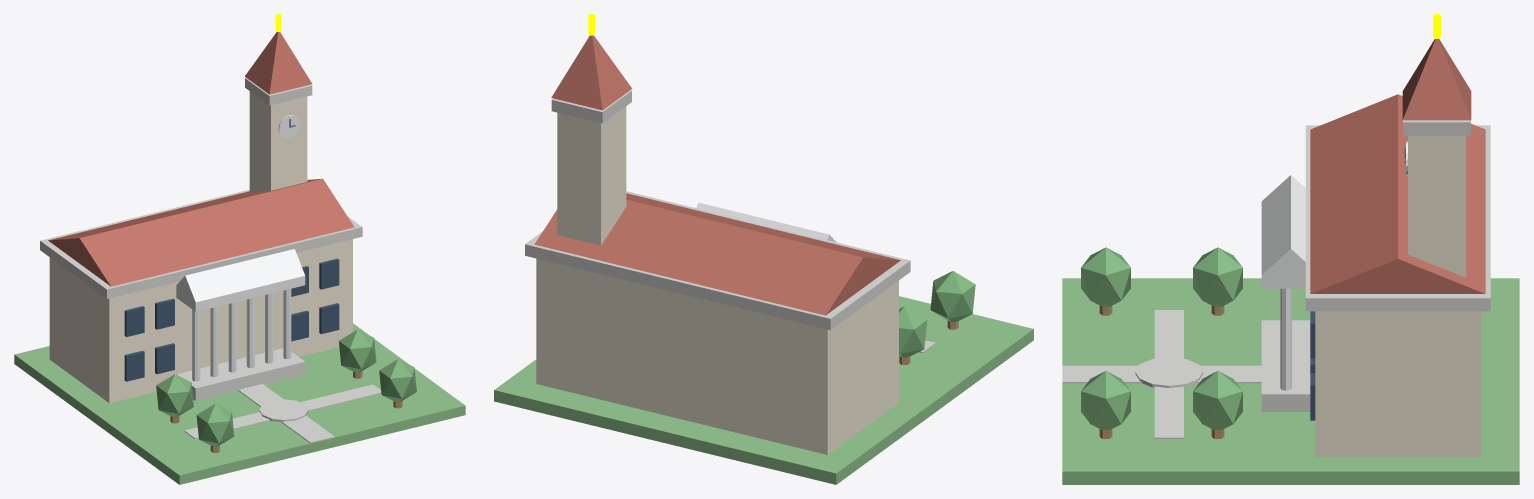
File: university.glb
The picture shows the model from 3 angles, left to right: view 1: azimuth 30°, elevation 25°; view 2: azimuth 150°, elevation 25°; view 3: azimuth 270°, elevation 25°; orthographic projection. The views are drawn at different scales.
Parts seen in each view (by area): view 1: university_body; view 2: university_body; view 3: university_body.
Boxes of the visible parts, bbox=[...] form: university_body: bbox=[14, 14, 465, 484]; university_body: bbox=[494, 14, 1033, 484]; university_body: bbox=[1062, 14, 1519, 484].
Bounding box in the file's own units: 0.94 × 0.985 × 0.94.
